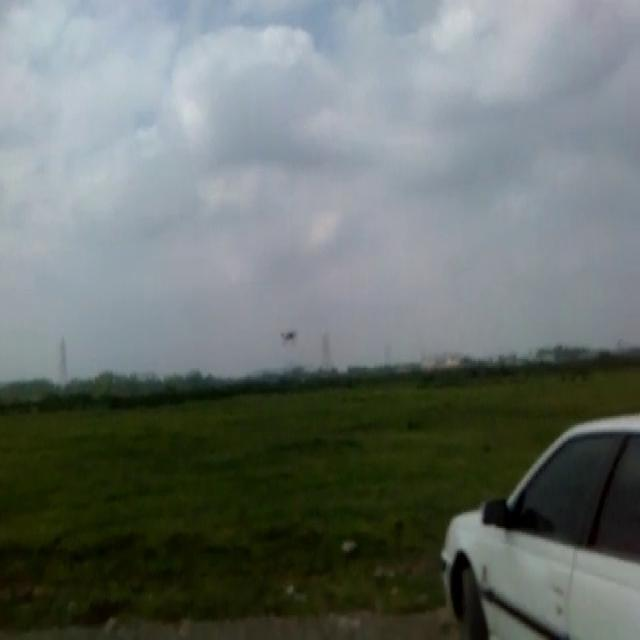drone: (278, 323, 298, 345)
